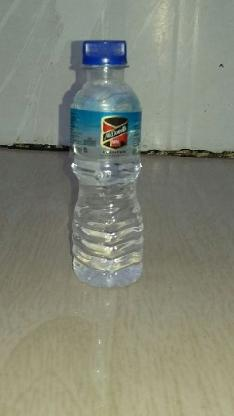Plastic Bottle: (65, 26, 174, 291)
